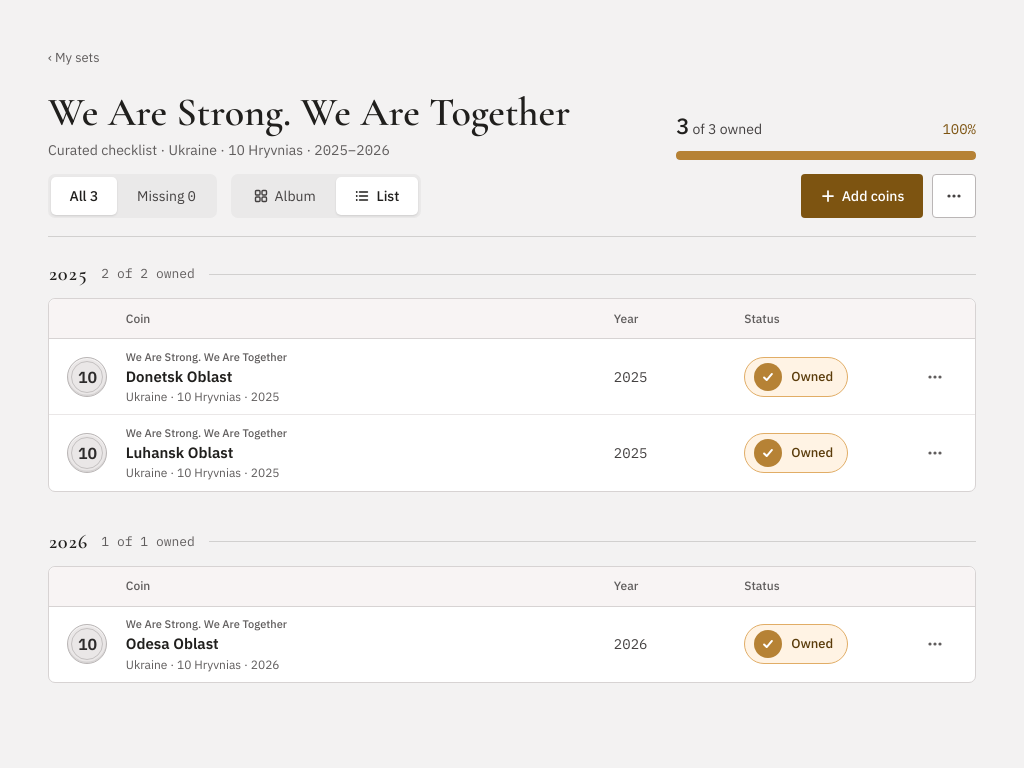
Test: SetEditorPage: edge cases › criterion 13: Missing filter with nothing missing › the complete state also works in List view
expect the number of list items with test id "set-coin-row" is 3: met, box [49,339,975,415]; [49,415,975,490]; [49,607,975,682]
Click the button with test id "set-editor-show-missing-toggle": (166, 196) [119,177,214,215]
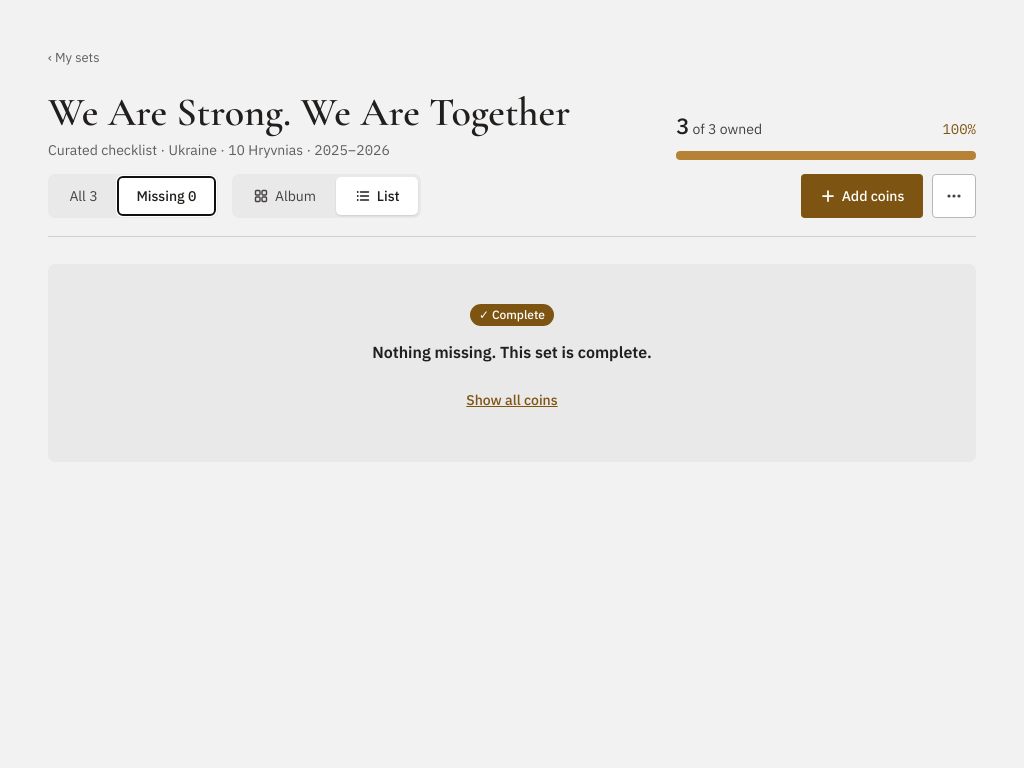
expect the element with test id "set-editor-complete-empty" is shown: met, box [48,264,976,462]
expect the list item with test id "set-coin-row" is gone: met
